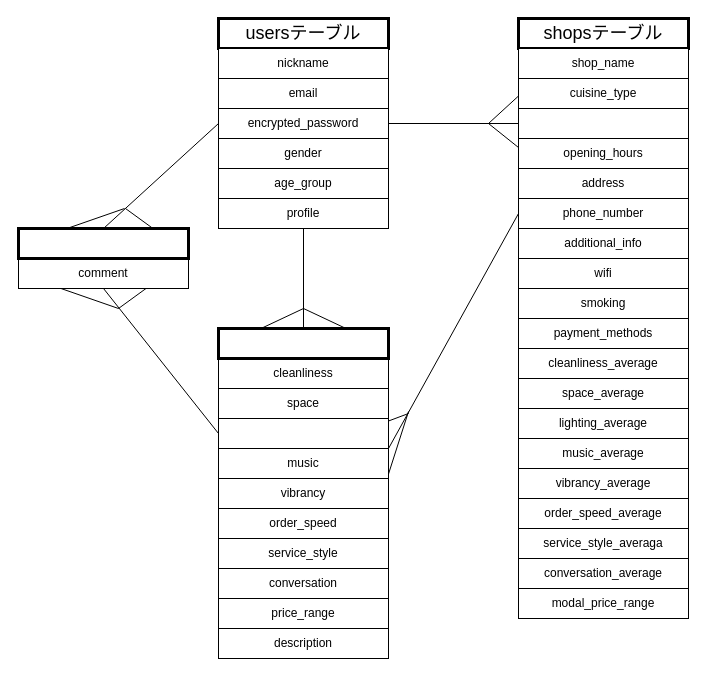
Image size: 707x676. Some labels were removed from this diagram. Each missing label, with the centre of its shape:
"closed_days" goes at (x=603, y=123).
"commentsテーブル" goes at (x=103, y=243).
"lighting" goes at (x=303, y=433).
"reviewsテーブル" goes at (x=303, y=343).
